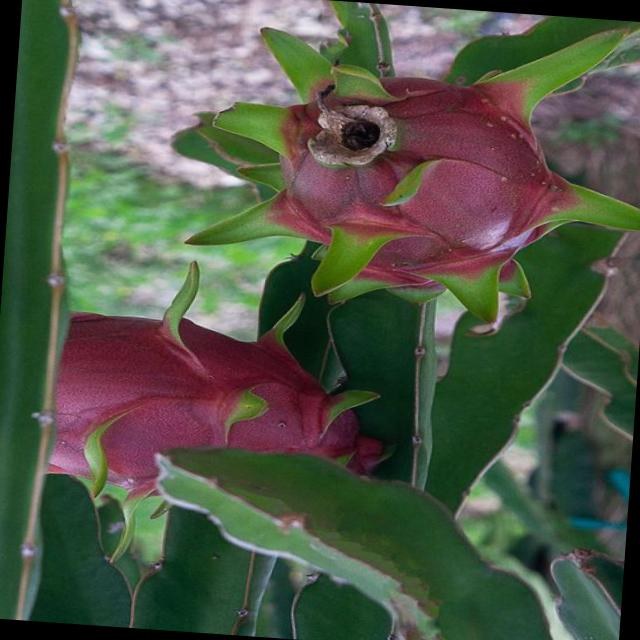Thanh Long: (202, 2, 616, 344), (40, 277, 355, 549)
